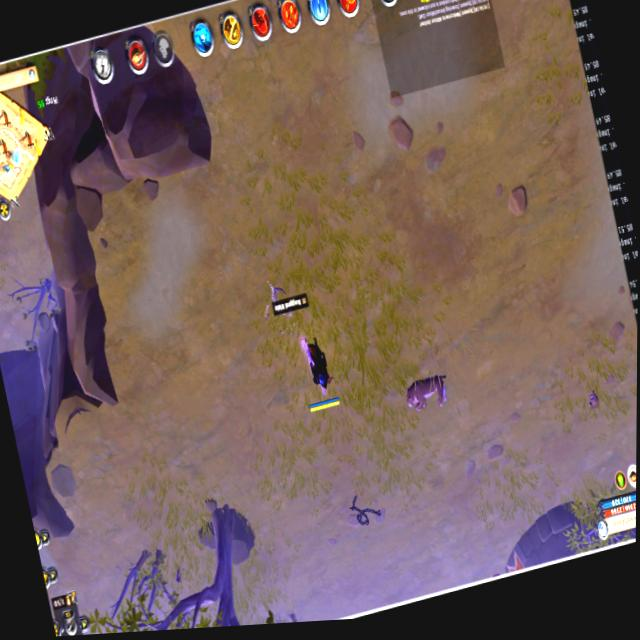mob: (399, 366, 455, 425)
red: (294, 324, 344, 420)
